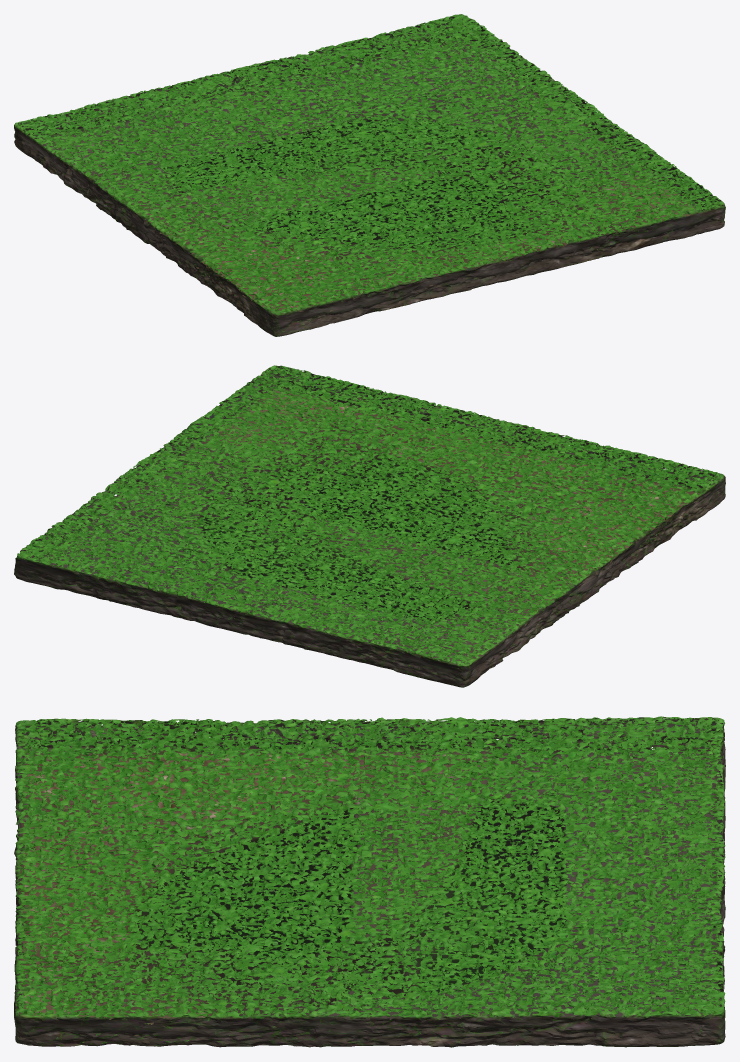
File: lush_ground_floor.glb
3 renders of one model, top to bottom at view 1: azimuth 30°, elevation 25°; view 2: azimuth 150°, elevation 25°; view 3: azimuth 270°, elevation 25°, orthographic. The views are drawn at different scales.
Parts seen in each view (by area): view 1: world; view 2: world; view 3: world.
Part boxes in pixels (x1=…): world: x1=14, y1=14, x2=725, y2=336; world: x1=14, y1=365, x2=725, y2=687; world: x1=14, y1=716, x2=725, y2=1047.
Bounding box in the file's own units: 36 × 2 × 36.
1 material, 1 textured.
